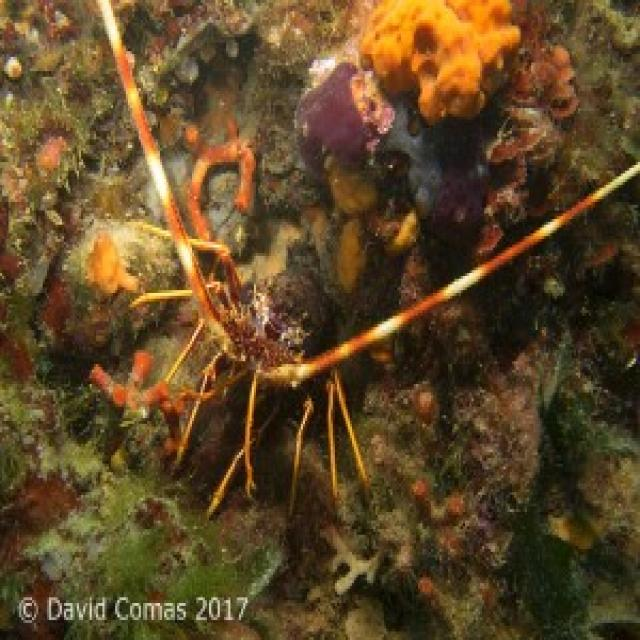lobsters: (106, 119, 640, 640)
